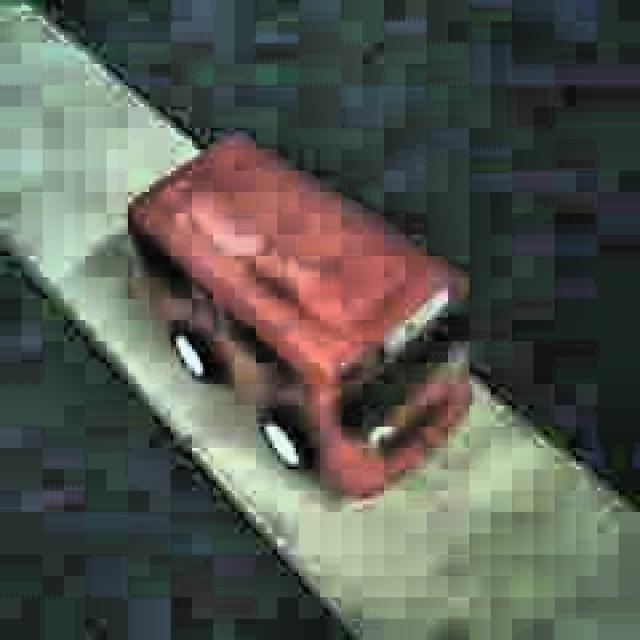bus: (126, 135, 473, 502)
